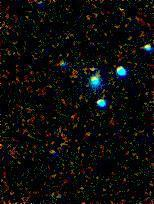star: (76, 53, 106, 83)
